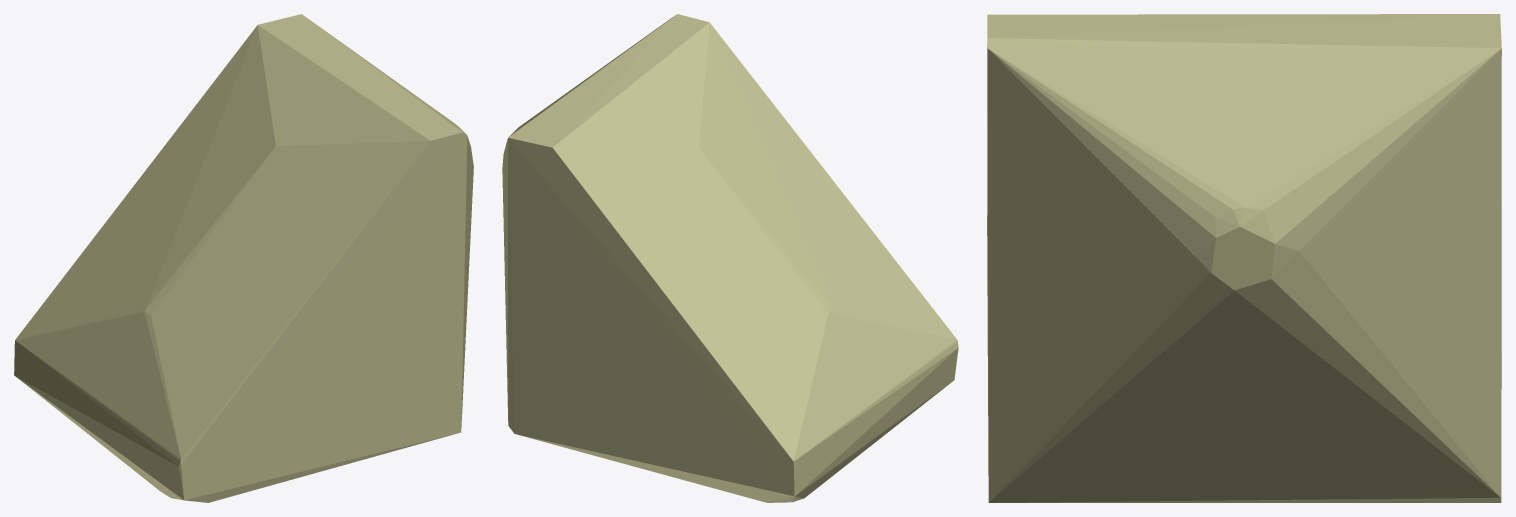
File: hardware_bracket_smallCorner_a01.glb
The picture shows the model from 3 angles, left to right: view 1: azimuth 30°, elevation 25°; view 2: azimuth 150°, elevation 25°; view 3: azimuth 270°, elevation 25°; orthographic projection. The views are drawn at different scales.
Visible parts, largest first — view 1: geometry_0; view 2: geometry_0; view 3: geometry_0.
Part boxes in pixels (x1,y1,x2,y2): geometry_0: [14, 14, 473, 502]; geometry_0: [502, 14, 958, 502]; geometry_0: [987, 14, 1501, 502].
Size of the model in its own units: 0.48 by 0.4741 by 0.3774.
